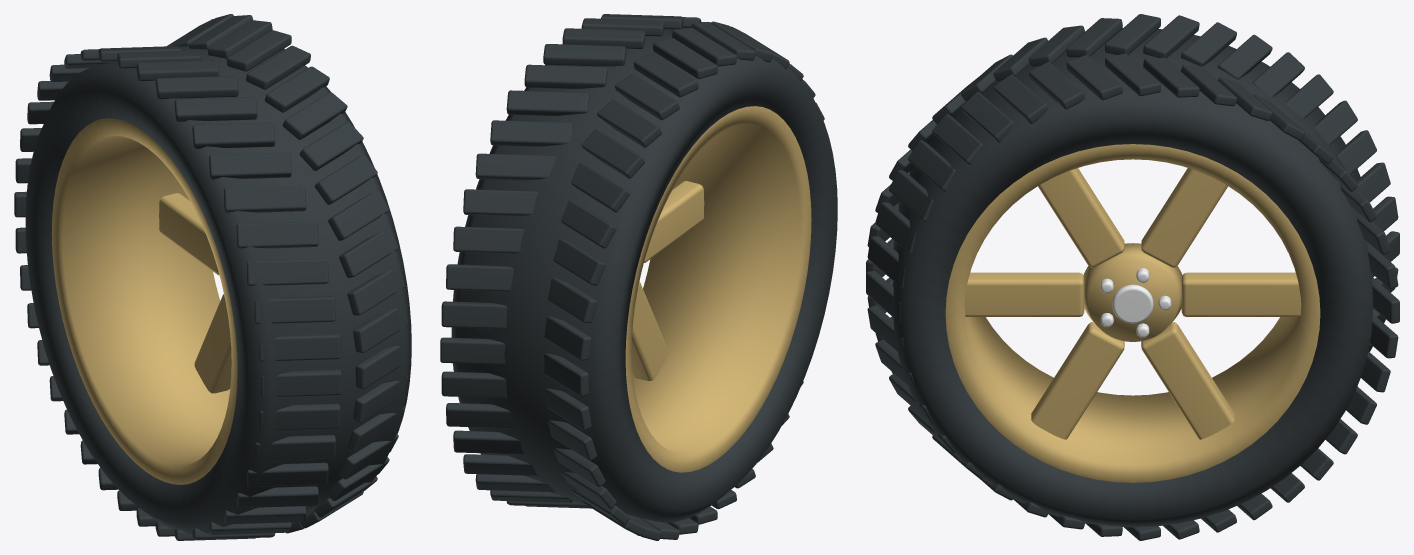
The model's file is tyres_grip.fbx.
3 renders of one model, left to right at view 1: azimuth 30°, elevation 25°; view 2: azimuth 150°, elevation 25°; view 3: azimuth 270°, elevation 25°, orthographic.
Visible parts, largest first — view 1: tyres_grip; view 2: tyres_grip; view 3: tyres_grip.
Boxes of the visible parts, left/top/right/bottom form: tyres_grip: left=14, top=14, right=411, bottom=540; tyres_grip: left=440, top=14, right=837, bottom=540; tyres_grip: left=866, top=14, right=1399, bottom=540.
Size of the model in its own units: 22.5 by 60.2 by 64.09.
